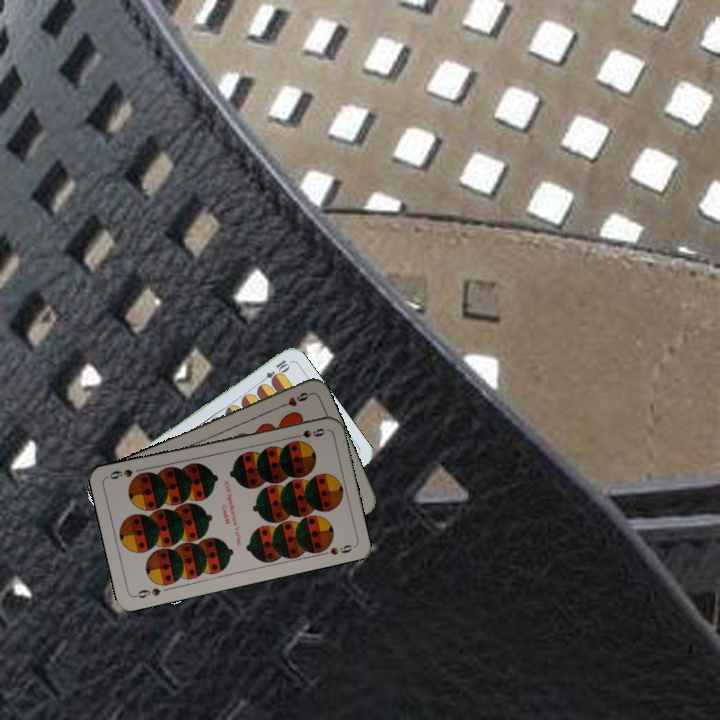E10: (256, 356, 291, 387)
H9: (274, 388, 313, 411)
S9: (288, 424, 328, 441), (131, 584, 163, 601)
